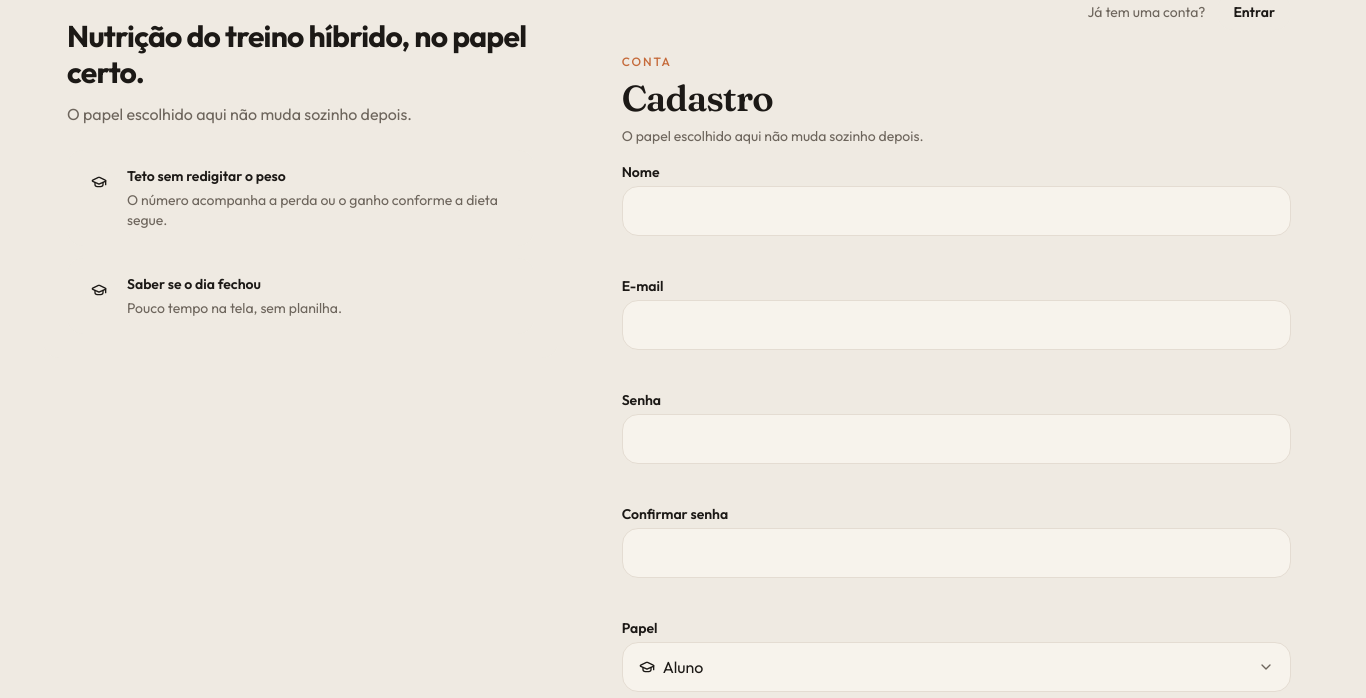
Test: cadastro com e-mail já existente mostra a mensagem e não grava JWT
The image size is (1366, 698).
Type "Ana Aluna" into the field labelled "Nome" at (956, 211), box left=622, top=186, right=1291, bottom=236
Type "ana@example.com" into the field labelled "E-mail" at (956, 325), box left=622, top=300, right=1291, bottom=350
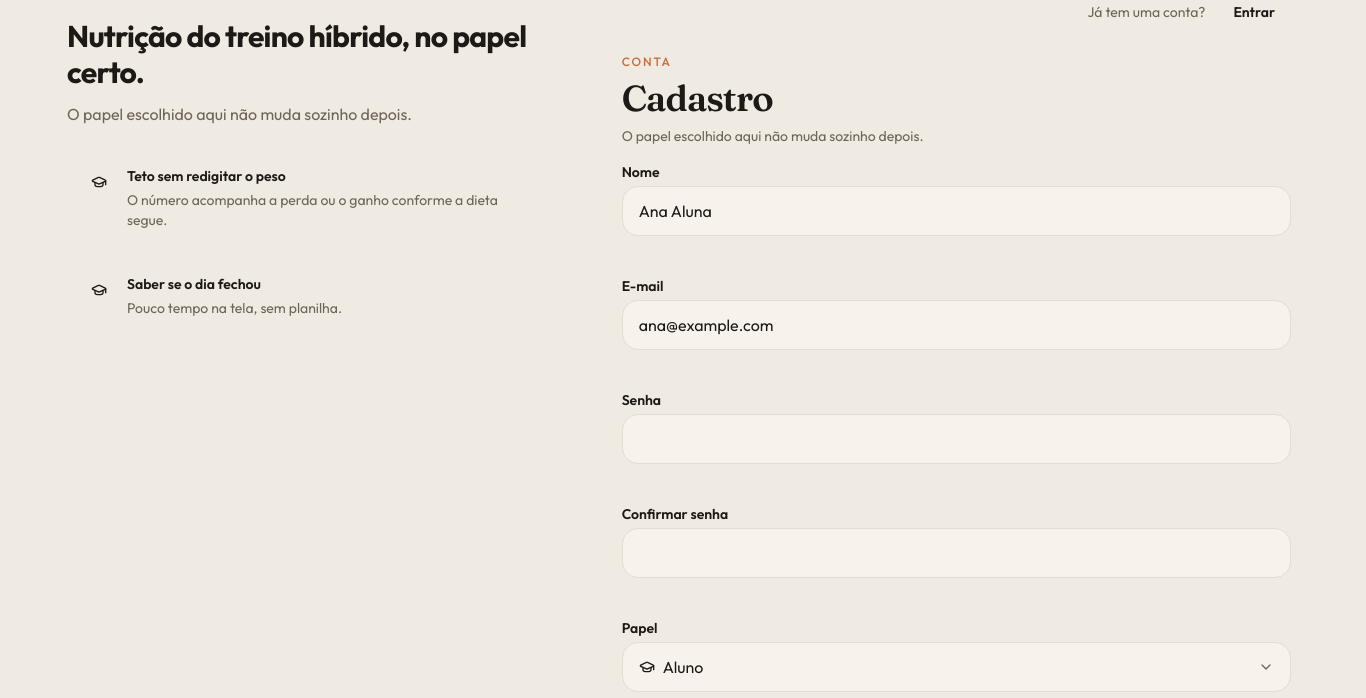
Type "Senha123" into the password field labelled "Senha" at (956, 439), box left=622, top=414, right=1291, bottom=464
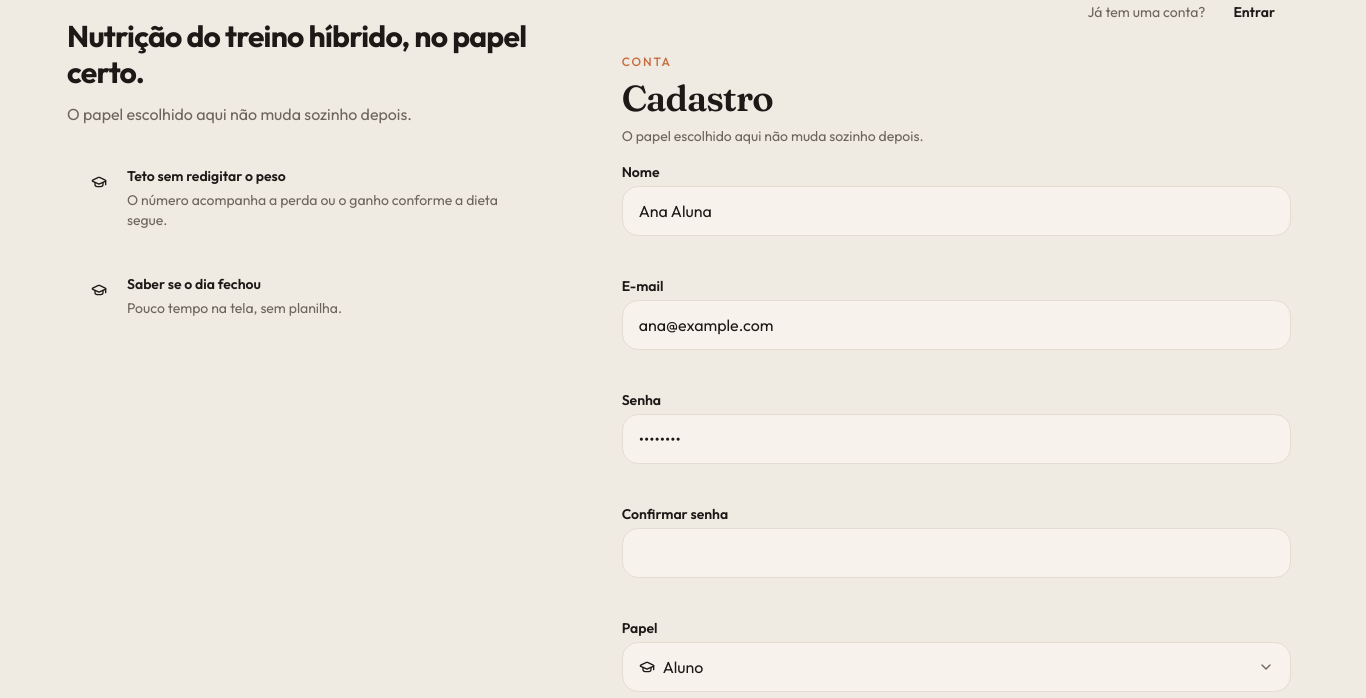
Type "Senha123" into the password field labelled "Confirmar senha" at (956, 553), box left=622, top=528, right=1291, bottom=578
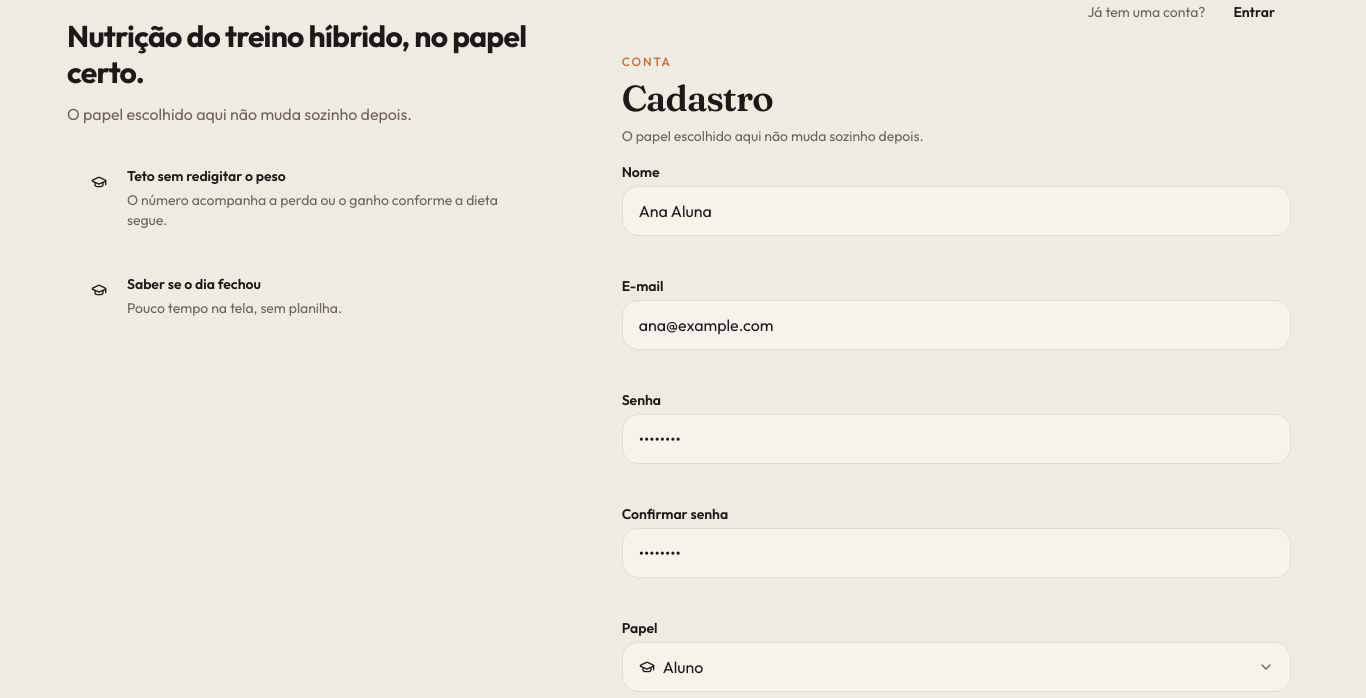
Click the dropdown named "Papel" at (683, 667), box left=622, top=642, right=1291, bottom=692
(page scrolled)
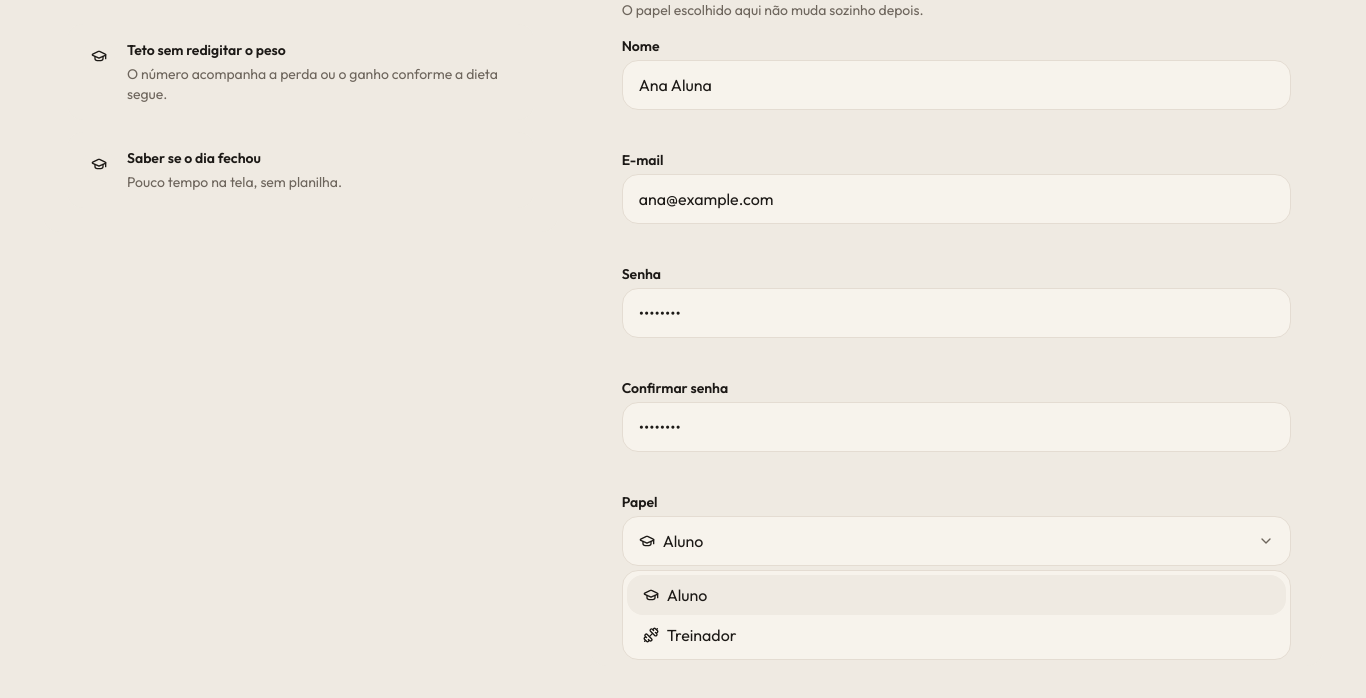
Click the option "Aluno" at (687, 595), box left=627, top=575, right=1286, bottom=615
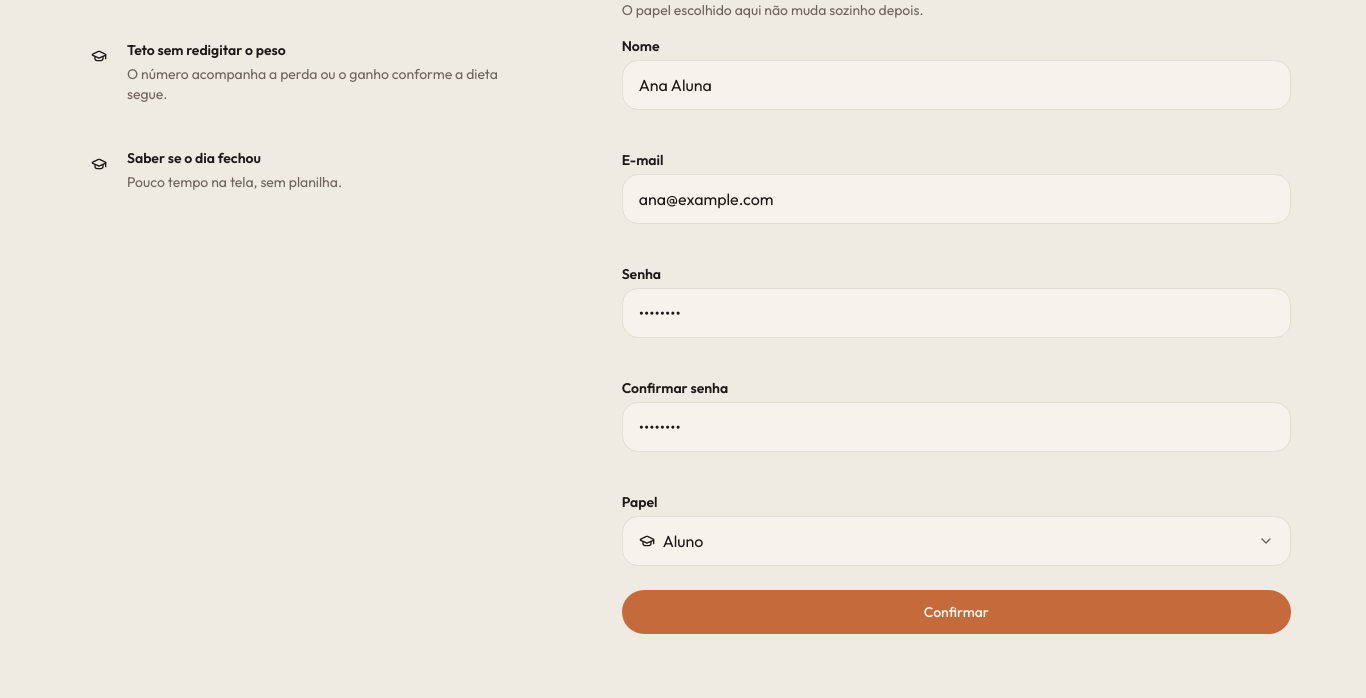
Click the button "Confirmar" at (956, 612), box left=622, top=590, right=1291, bottom=634
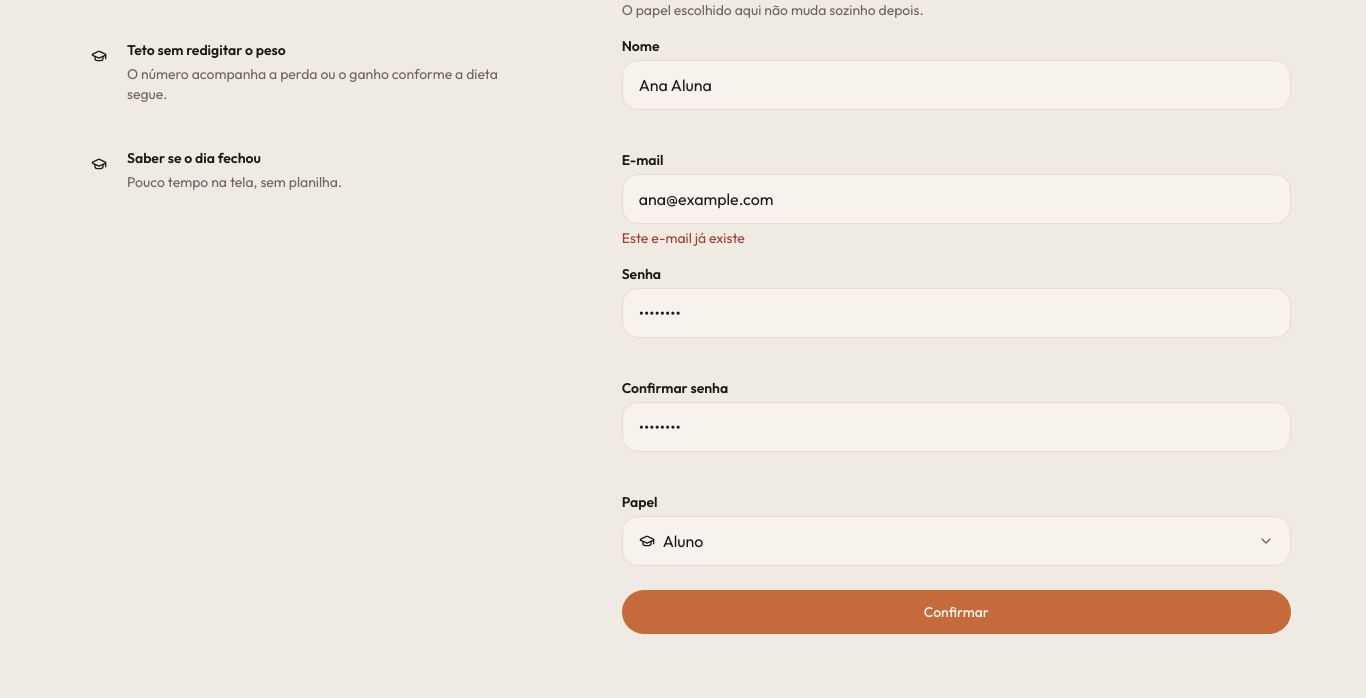
Result: the text "Este e-mail já existe" is shown at left=622, top=229, right=745, bottom=247
